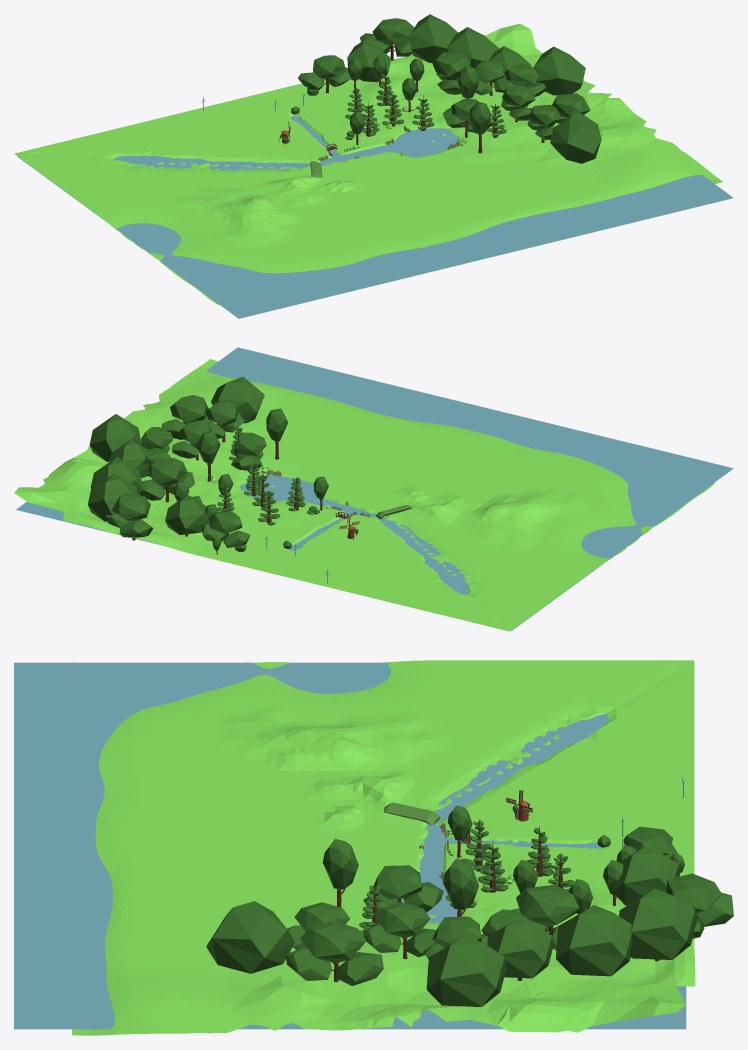
Rendered from Terrain.fbx.
3 renders of one model, top to bottom at view 1: azimuth 30°, elevation 25°; view 2: azimuth 150°, elevation 25°; view 3: azimuth 270°, elevation 25°, orthographic. The views are drawn at different scales.
Visible parts, largest first — view 1: Terrain, Water, Tree_04.003, Tree_04.007, Tree_04.005, Tree_03.007, Tree_03.001, Tree_04.004, Tree_03.011, Tree_04.009, Tree_03.002, Tree_03.005 (+7 smaller); view 2: Terrain, Water, Tree_03.011, Tree_03.007, Tree_04.007, Tree_04.003, Tree_04.009, Tree_04.005, Tree_03.001, Tree_03.003, Tree_03.012, Tree_03.006 (+6 smaller); view 3: Terrain, Water, Tree_04.003, Tree_04.007, Tree_04.004, Tree_03.003, Tree_04.005, Tree_03.005, Tree_04.006, Tree_04.009, Tree_03.007, Tree_03.012 (+12 smaller).
Boxes of the visible parts, left/top/right/bottom form: Terrain: left=14, top=23, right=722, bottom=305; Water: left=17, top=91, right=733, bottom=318; Tree_04.003: left=550, top=112, right=601, bottom=163; Tree_04.007: left=533, top=46, right=585, bottom=95; Tree_04.005: left=410, top=14, right=458, bottom=62; Tree_03.007: left=359, top=18, right=414, bottom=60; Tree_03.001: left=298, top=55, right=350, bottom=93; Tree_04.004: left=447, top=27, right=499, bottom=68; Tree_03.011: left=432, top=52, right=470, bottom=94; Tree_04.009: left=347, top=40, right=391, bottom=82; Tree_03.002: left=497, top=64, right=546, bottom=97; Tree_03.005: left=501, top=85, right=535, bottom=122; Terrain: left=14, top=359, right=714, bottom=631; Water: left=16, top=347, right=733, bottom=630; Tree_03.011: left=139, top=457, right=194, bottom=502; Tree_03.007: left=105, top=493, right=153, bottom=540; Tree_04.007: left=89, top=414, right=141, bottom=461; Tree_04.003: left=211, top=376, right=264, bottom=423; Tree_04.009: left=165, top=494, right=209, bottom=536; Tree_04.005: left=87, top=473, right=137, bottom=521; Tree_03.001: left=202, top=511, right=249, bottom=547; Tree_03.003: left=161, top=395, right=212, bottom=439; Tree_03.012: left=231, top=432, right=266, bottom=470; Tree_03.006: left=206, top=401, right=244, bottom=442; Terrain: left=72, top=660, right=695, bottom=1035; Water: left=14, top=662, right=686, bottom=1029; Tree_04.003: left=206, top=901, right=294, bottom=973; Tree_04.007: left=426, top=935, right=506, bottom=1006; Tree_04.004: left=555, top=905, right=631, bottom=976; Tree_03.003: left=285, top=921, right=383, bottom=985; Tree_04.005: left=619, top=888, right=696, bottom=961; Tree_03.005: left=362, top=902, right=438, bottom=959; Tree_04.006: left=487, top=918, right=553, bottom=980; Tree_04.009: left=612, top=846, right=679, bottom=905; Tree_03.007: left=666, top=873, right=733, bottom=938; Tree_03.012: left=363, top=865, right=443, bottom=912.
Bounding box in the file's own units: 20745 × 2348 × 16851.
